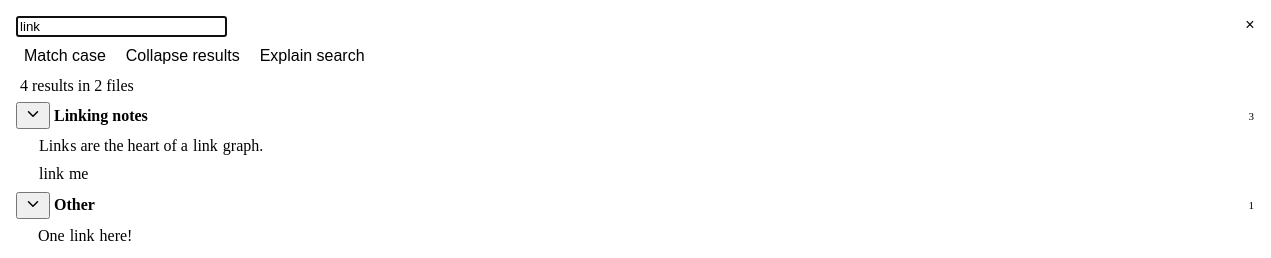
Test: SearchPane header selection › still selects a collapsed file header through the keyboard
Later steps or results of the test are not shown.
Click the button titled "Collapse results": {"x": 183, "y": 56} [118,43,248,69]
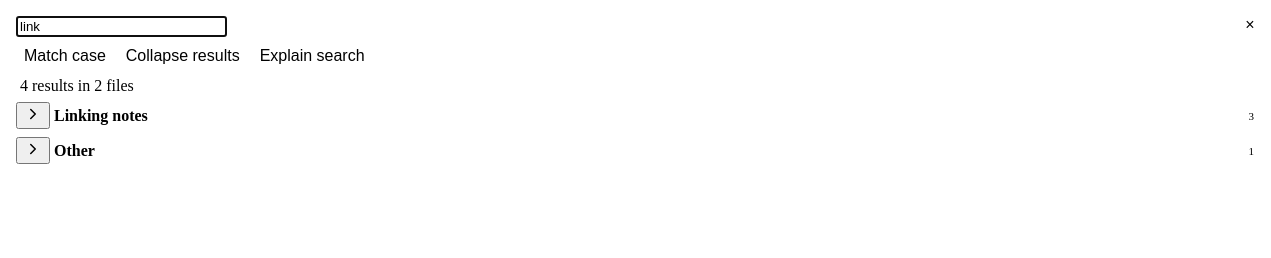
Check: no elements with test id "search-result-match" are shown
